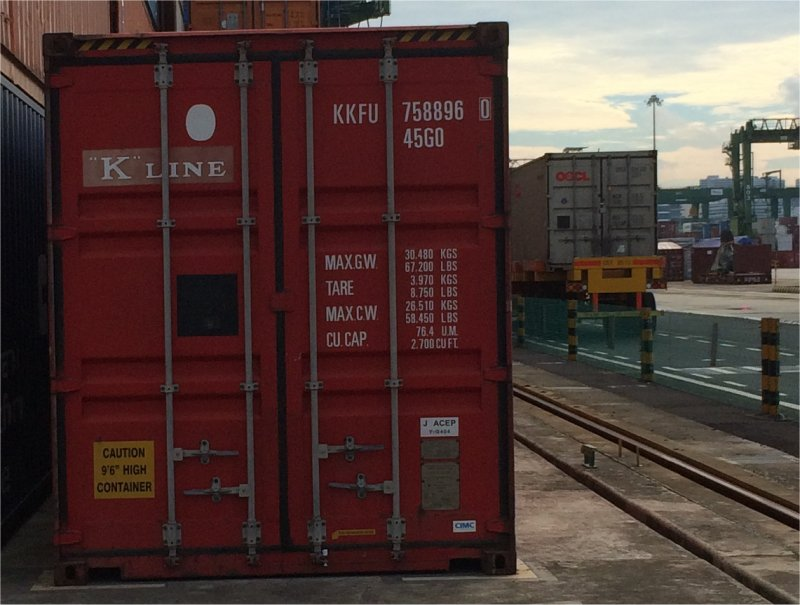container_door: (41, 30, 514, 581)
